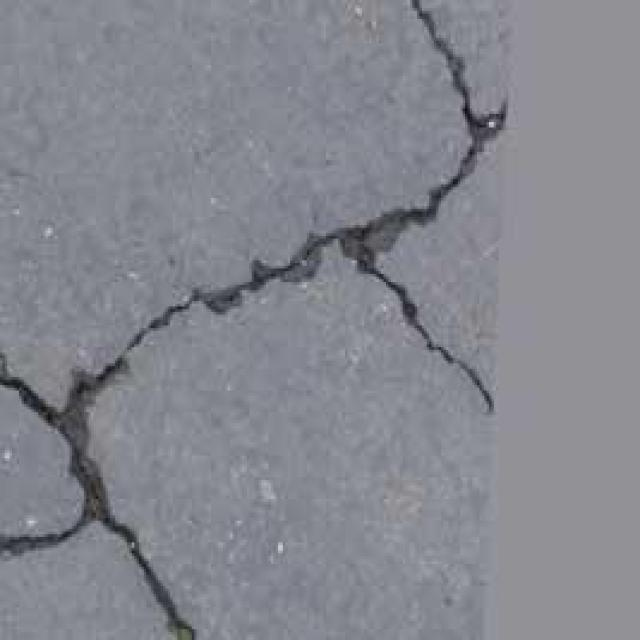multi-branched crack: (0, 0, 506, 637)
